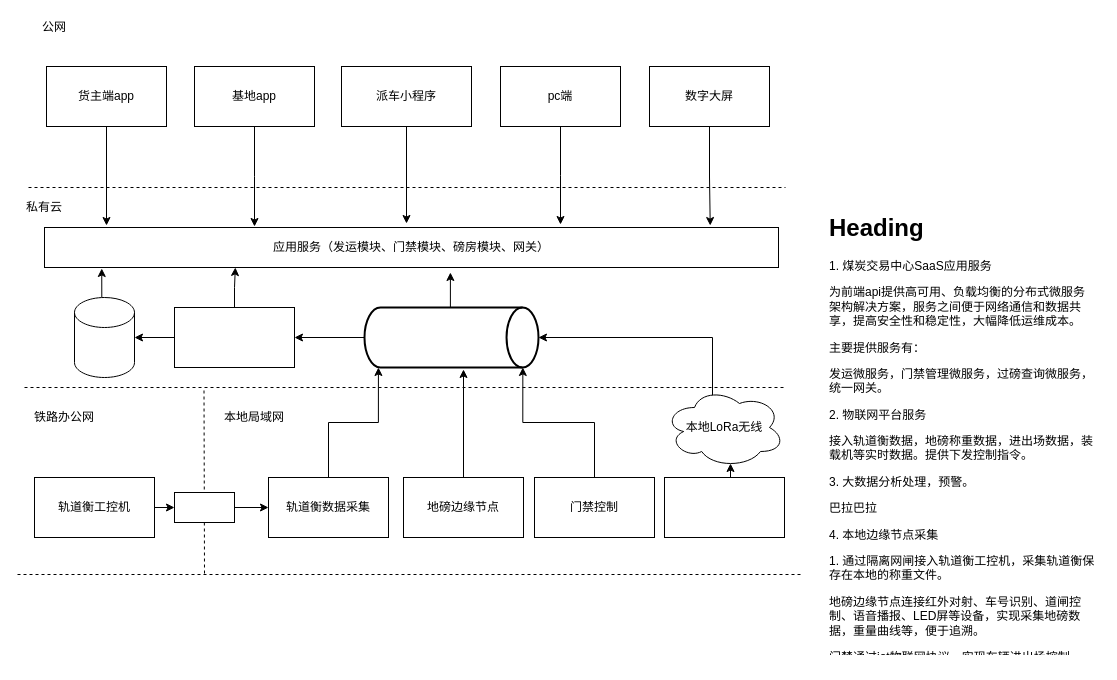
This 1117x680 diagram has some shape labels left out. Here are the shapes that lost their labels. From the top down, the centre of each, then its label:
At point (104, 337): "mysql".
At point (234, 337): "大数据分析处理".
At point (451, 337): "物联网平台".
At point (204, 507): "隔离网闸".
At point (724, 507): "装载机".
